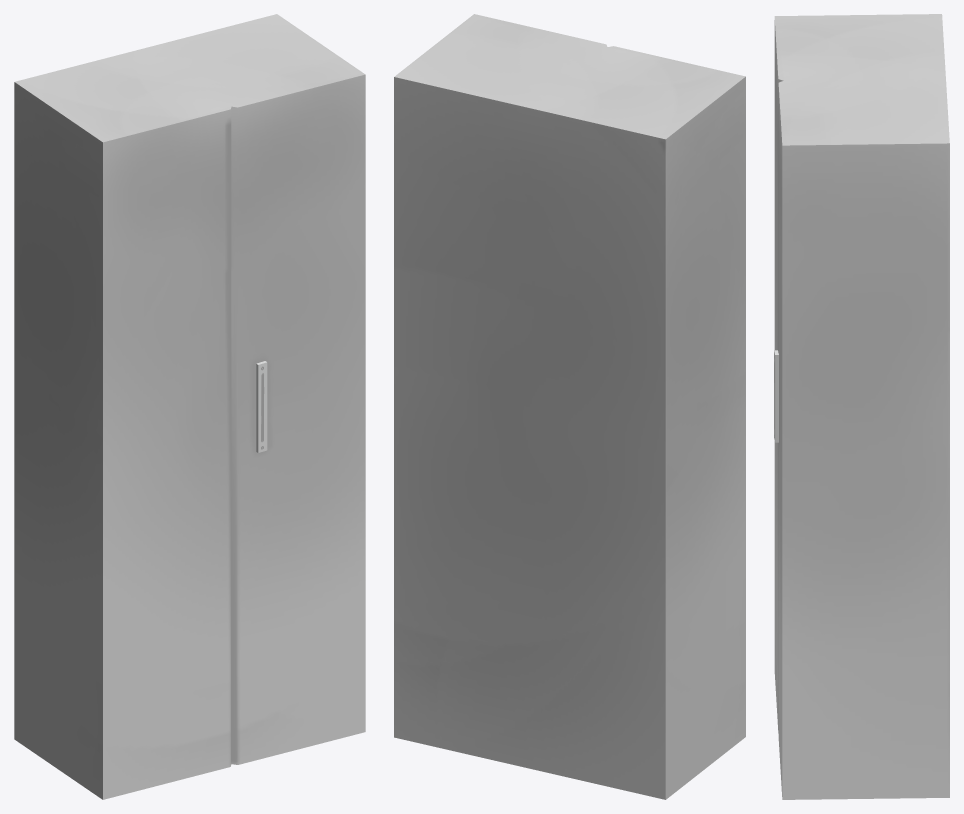
Rendered from Company_cabinet.fbx.
3 views of the same model, side by side, from view 1: azimuth 30°, elevation 25°; view 2: azimuth 150°, elevation 25°; view 3: azimuth 270°, elevation 25° (orthographic).
Parts seen in each view (by area): view 1: Object001; view 2: Object001; view 3: Object001.
Part boxes in pixels (x1,y1,x2,y2): Object001: [14, 14, 365, 799]; Object001: [394, 14, 745, 799]; Object001: [774, 14, 949, 799].
Size of the model in its own units: 0.8936 by 2.07 by 0.5042.
1 material, 1 textured.
